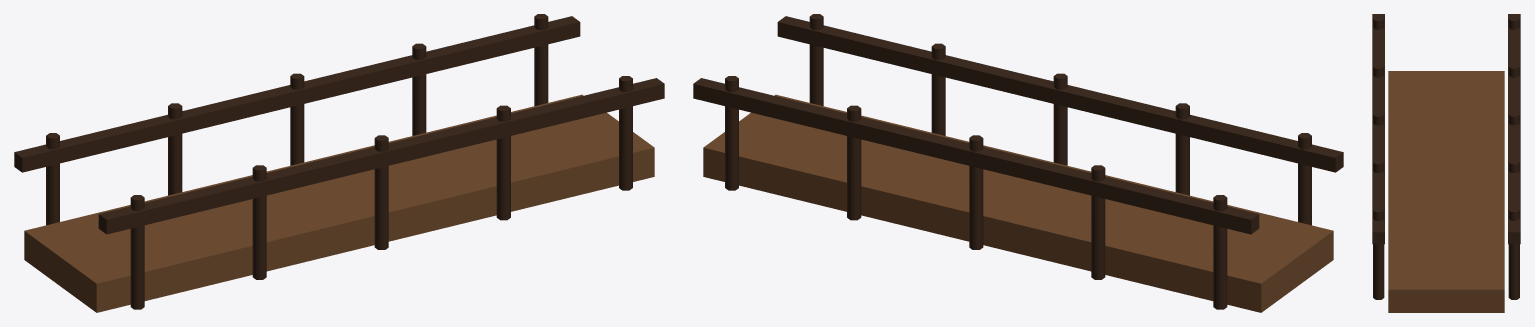
The model's file is jungle-footbridge.glb.
3 renders of one model, left to right at view 1: azimuth 30°, elevation 25°; view 2: azimuth 150°, elevation 25°; view 3: azimuth 270°, elevation 25°, orthographic. The views are drawn at different scales.
Parts seen in each view (by area): view 1: deck, leftRail, rightRail, railPostLeft4, railPostLeft3, railPostLeft2, railPostLeft1, railPostLeft5, railPostRight4, railPostRight2, railPostRight3, railPostRight5 (+1 smaller); view 2: deck, rightRail, leftRail, railPostRight4, railPostRight3, railPostRight2, railPostRight1, railPostRight5, railPostLeft4, railPostLeft2, railPostLeft3, railPostLeft5 (+1 smaller); view 3: deck, leftRail, rightRail, railPostLeft5, railPostRight5, railPostLeft1, railPostRight1, railPostLeft2, railPostRight2, railPostLeft3, railPostRight3, railPostLeft4 (+1 smaller).
Part boxes in pixels (x1=…): deck: x1=24, y1=94, x2=654, y2=312; leftRail: x1=98, y1=78, x2=664, y2=234; rightRail: x1=14, y1=16, x2=580, y2=172; railPostLeft4: x1=496, y1=105, x2=510, y2=220; railPostLeft3: x1=374, y1=135, x2=388, y2=249; railPostLeft2: x1=252, y1=165, x2=266, y2=279; railPostLeft1: x1=130, y1=195, x2=144, y2=309; railPostLeft5: x1=619, y1=76, x2=632, y2=190; railPostRight4: x1=412, y1=43, x2=426, y2=135; railPostRight2: x1=168, y1=103, x2=182, y2=195; railPostRight3: x1=290, y1=73, x2=304, y2=165; railPostRight5: x1=534, y1=14, x2=548, y2=106; deck: x1=703, y1=94, x2=1333, y2=312; rightRail: x1=693, y1=78, x2=1259, y2=234; leftRail: x1=777, y1=16, x2=1343, y2=172; railPostRight4: x1=847, y1=105, x2=861, y2=220; railPostRight3: x1=969, y1=135, x2=983, y2=249; railPostRight2: x1=1091, y1=165, x2=1105, y2=279; railPostRight1: x1=1213, y1=195, x2=1227, y2=309; railPostRight5: x1=725, y1=76, x2=738, y2=190; railPostLeft4: x1=931, y1=43, x2=945, y2=135; railPostLeft2: x1=1175, y1=103, x2=1189, y2=195; railPostLeft3: x1=1053, y1=73, x2=1067, y2=165; railPostLeft5: x1=809, y1=14, x2=823, y2=106; deck: x1=1388, y1=71, x2=1504, y2=312; leftRail: x1=1372, y1=14, x2=1384, y2=244; rightRail: x1=1508, y1=14, x2=1520, y2=244; railPostLeft5: x1=1373, y1=208, x2=1384, y2=299; railPostRight5: x1=1508, y1=208, x2=1519, y2=299; railPostLeft1: x1=1373, y1=16, x2=1384, y2=29; railPostRight1: x1=1508, y1=16, x2=1519, y2=29; railPostLeft2: x1=1373, y1=64, x2=1384, y2=77; railPostRight2: x1=1508, y1=64, x2=1519, y2=77; railPostLeft3: x1=1373, y1=112, x2=1384, y2=125; railPostRight3: x1=1508, y1=112, x2=1519, y2=125; railPostLeft4: x1=1373, y1=160, x2=1384, y2=172.
Bounding box in the file's own units: 3.2 × 0.61 × 0.92.
